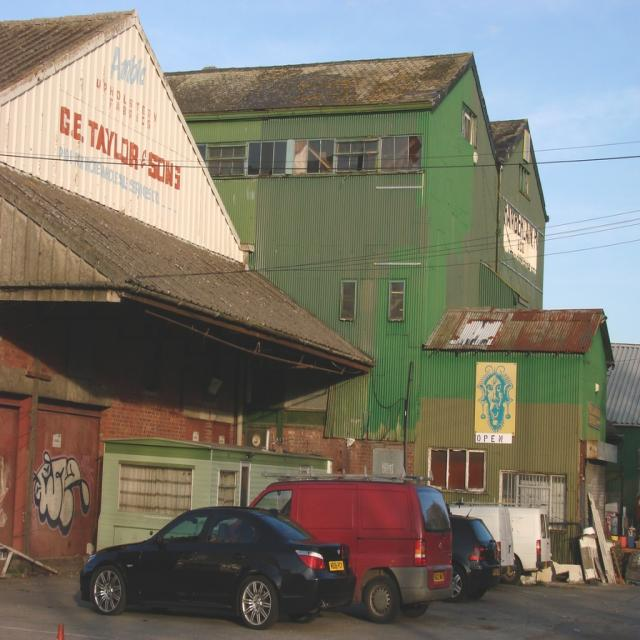car: (76, 498, 345, 627)
